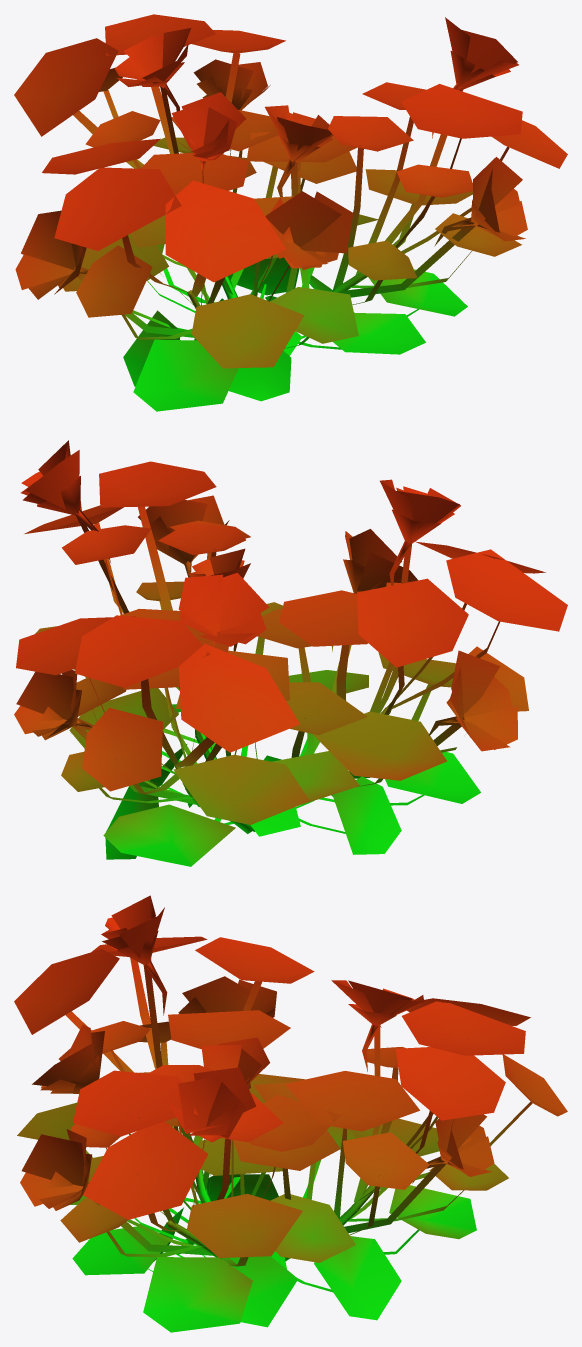
File: Var8_LOD1.fbx
The picture shows the model from 3 angles, top to bottom: view 1: azimuth 30°, elevation 25°; view 2: azimuth 150°, elevation 25°; view 3: azimuth 270°, elevation 25°; orthographic projection. The views are drawn at different scales.
Visible parts, largest first — view 1: _f244_Var8_LOD1; view 2: _f244_Var8_LOD1; view 3: _f244_Var8_LOD1.
Boxes of the visible parts, x1,y1,x2,y2 form: _f244_Var8_LOD1: [14, 14, 567, 411]; _f244_Var8_LOD1: [14, 440, 567, 866]; _f244_Var8_LOD1: [14, 895, 567, 1332].
Size of the model in its own units: 43.67 by 26.81 by 40.63.
